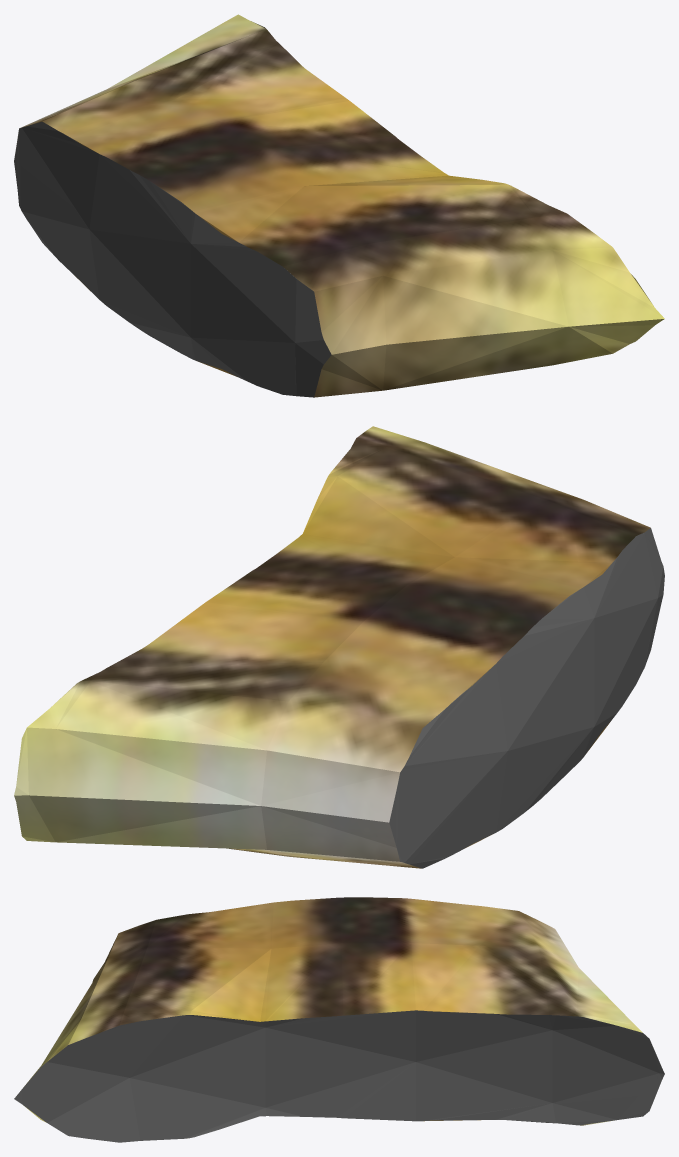
The picture shows the model from 3 angles, top to bottom: view 1: azimuth 30°, elevation 25°; view 2: azimuth 150°, elevation 25°; view 3: azimuth 270°, elevation 25°; orthographic projection. The views are drawn at different scales.
Visible parts, largest first — view 1: link_13_visual; view 2: link_13_visual; view 3: link_13_visual.
Part boxes in pixels (<box>): link_13_visual: <box>14,14,664,397</box>; link_13_visual: <box>14,426,664,868</box>; link_13_visual: <box>14,897,664,1142</box>.
Bounding box in the file's own units: 0.00124 × 0.000558 × 0.00241.
1 material, 1 textured.
